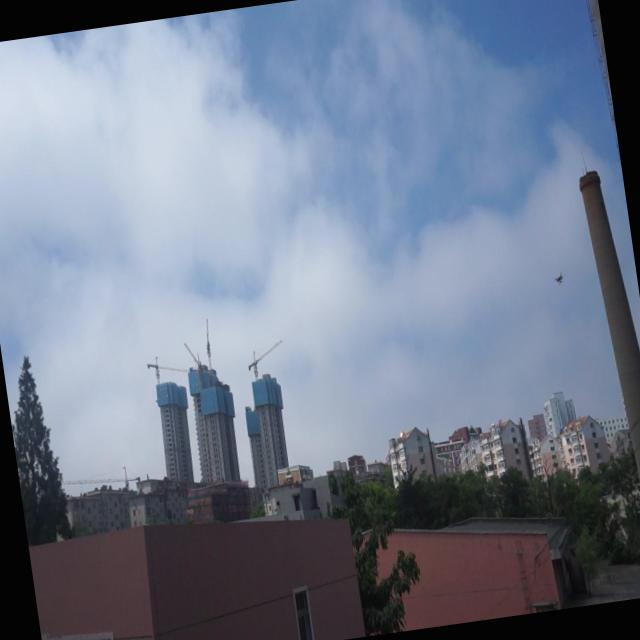drone: (553, 268, 566, 288)
